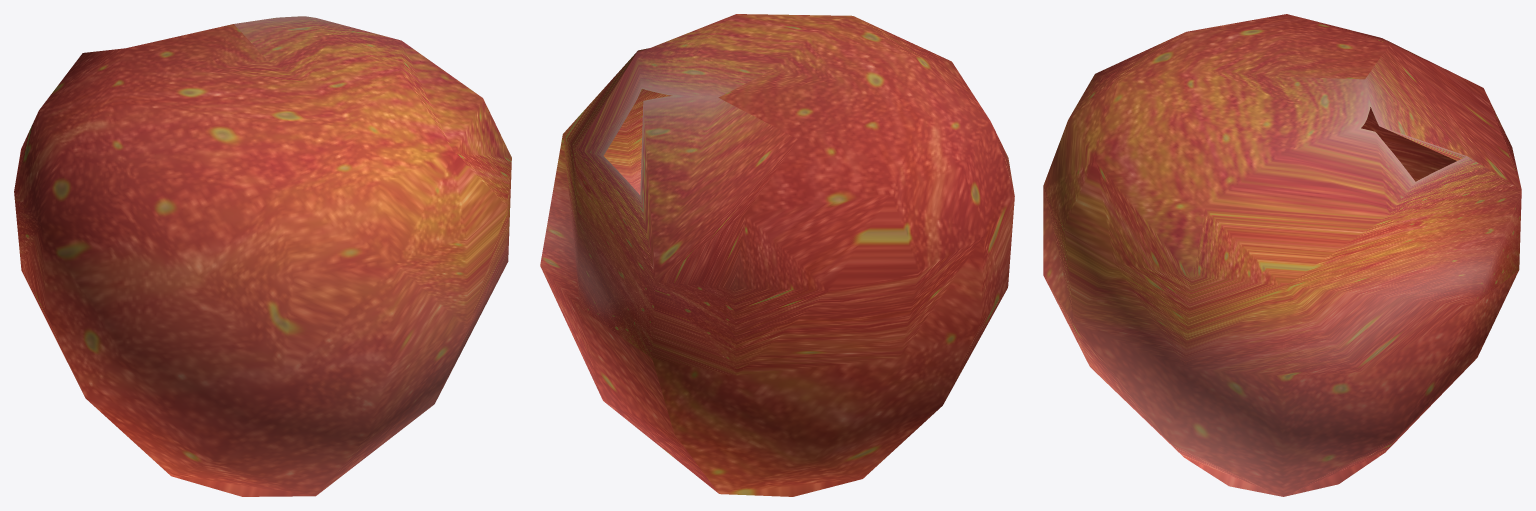
Rendered from Jupiter_apple.fbx.
3 renders of one model, left to right at view 1: azimuth 30°, elevation 25°; view 2: azimuth 150°, elevation 25°; view 3: azimuth 270°, elevation 25°, orthographic. The views are drawn at different scales.
Visible parts, largest first — view 1: Sphere; view 2: Sphere; view 3: Sphere.
Part boxes in pixels (bbox=[...]): Sphere: bbox=[14, 16, 511, 496]; Sphere: bbox=[540, 14, 1014, 496]; Sphere: bbox=[1043, 14, 1521, 496].
Bounding box in the file's own units: 194 × 181 × 191.
1 material, 1 textured.
